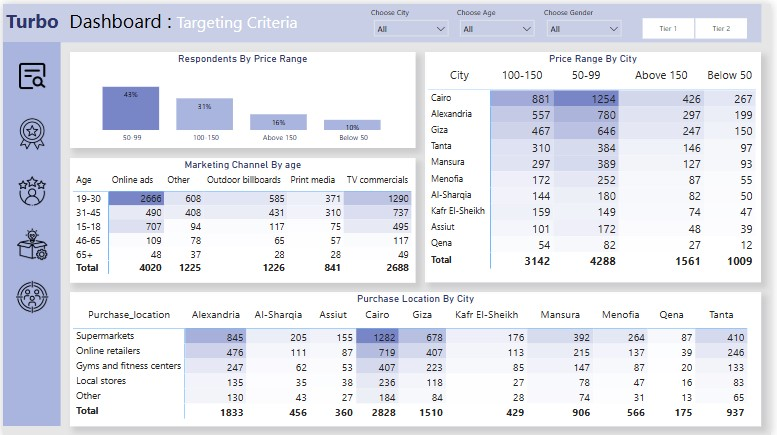

The page's visual inventory and layout, read from the dashboard file:
{"tool":"powerbi","page":{"name":"Targeting Criteria","canvas":[1280,720],"ordinal":4},"visuals":[{"type":"textbox","box":[0,0,1264,64],"z":0},{"type":"slicer","title":"City","fields":{"Values":["dim_cities.City"]},"box":[608,16,144,48],"z":1000},{"type":"pivotTable","title":"Purchase Location By City","fields":{"Rows":["fact_survey_responses.Purchase_location"],"Values":["CountNonNull(fact_survey_responses.Response_ID)"],"Columns":["dim_cities.City"]},"box":[112,480,1152,224],"z":2000},{"type":"slicer","title":"Age","fields":{"Values":["dim_repondents.Age"]},"box":[752,16,144,48],"z":3000},{"type":"pivotTable","title":"Price Range By City","fields":{"Values":["CountNonNull(fact_survey_responses.Response_ID)"],"Columns":["fact_survey_responses.Price_range"],"Rows":["dim_cities.City"]},"box":[704,80,560,384],"z":4000},{"type":"slicer","title":"Gender","fields":{"Values":["dim_repondents.Gender"]},"box":[896,16,144,48],"z":5000},{"type":"pivotTable","title":"Marketing Channel By age","fields":{"Values":["CountNonNull(fact_survey_responses.Response_ID)"],"Rows":["dim_repondents.Age"],"Columns":["fact_survey_responses.Marketing_channels"]},"box":[112,256,576,208],"z":6000},{"type":"slicer","fields":{"Values":["dim_cities.Tier"]},"box":[1040,16,224,48],"z":7000},{"type":"columnChart","title":"Respondents By Price Range","fields":{"Category":["fact_survey_responses.Price_range"],"Y":["CountNonNull(fact_survey_responses.Response_ID)"]},"box":[112,80,576,160],"z":8000},{"type":"shape","box":[0,64,96,640],"z":9000},{"type":"image","box":[16,80,64,80],"z":10000},{"type":"image","box":[16,176,64,80],"z":11000},{"type":"image","box":[16,272,64,80],"z":12000},{"type":"image","box":[16,368,64,64],"z":13000},{"type":"image","box":[16,448,64,80],"z":14000},{"type":"textbox","box":[752,0,112,32],"z":15000},{"type":"textbox","box":[608,0,112,32],"z":16000},{"type":"textbox","box":[896,0,112,32],"z":17000}]}

Visuals, with their boxes in screenshot pixels (x1, y1, x2, y2), scaled from the page's 1280x720 canvas onto the 777x435 screenshot:
textbox: [left=0, top=0, right=767, bottom=39]
"City" slicer: [left=369, top=10, right=456, bottom=39]
"Purchase Location By City" pivotTable: [left=68, top=290, right=767, bottom=425]
"Age" slicer: [left=456, top=10, right=544, bottom=39]
"Price Range By City" pivotTable: [left=427, top=48, right=767, bottom=280]
"Gender" slicer: [left=544, top=10, right=631, bottom=39]
"Marketing Channel By age" pivotTable: [left=68, top=155, right=418, bottom=280]
slicer - dim_cities.Tier: [left=631, top=10, right=767, bottom=39]
"Respondents By Price Range" columnChart: [left=68, top=48, right=418, bottom=145]
shape: [left=0, top=39, right=58, bottom=425]
image: [left=10, top=48, right=49, bottom=97]
image: [left=10, top=106, right=49, bottom=155]
image: [left=10, top=164, right=49, bottom=213]
image: [left=10, top=222, right=49, bottom=261]
image: [left=10, top=271, right=49, bottom=319]
textbox: [left=456, top=0, right=524, bottom=19]
textbox: [left=369, top=0, right=437, bottom=19]
textbox: [left=544, top=0, right=612, bottom=19]
